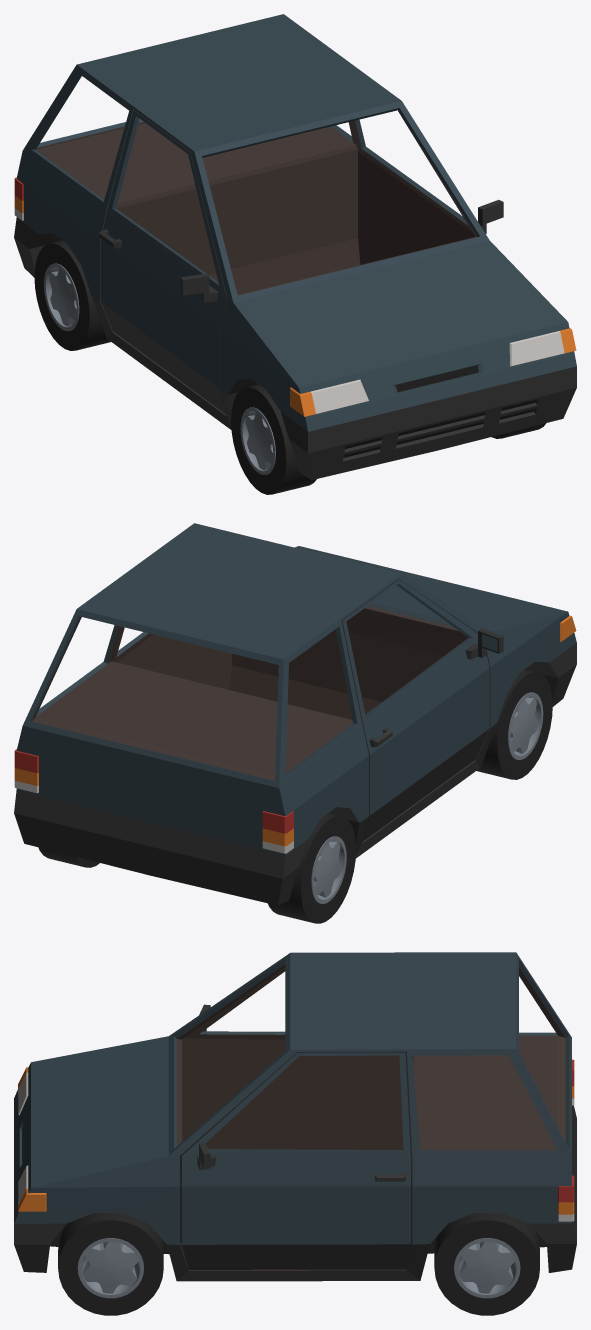
File: car0.glb
3 views of the same model, one above another, from view 1: azimuth 30°, elevation 25°; view 2: azimuth 150°, elevation 25°; view 3: azimuth 270°, elevation 25° (orthographic). The views are drawn at different scales.
Visible parts, largest first — view 1: car body, door r, door l, wheel fr, wheel br; view 2: car body, door r, wheel br, wheel fr, door l; view 3: car body, door l, door r, wheel bl, wheel fl.
Part boxes in pixels (x1=…): car body: x1=14, y1=14, x2=576, y2=480; door r: x1=99, y1=110, x2=227, y2=414; door l: x1=351, y1=111, x2=503, y2=264; wheel fr: x1=231, y1=384, x2=316, y2=494; wheel br: x1=34, y1=240, x2=110, y2=350; car body: x1=14, y1=523, x2=576, y2=905; door r: x1=341, y1=579, x2=503, y2=841; wheel br: x1=268, y1=813, x2=356, y2=923; wheel fr: x1=476, y1=669, x2=552, y2=779; door l: x1=111, y1=626, x2=231, y2=689; car body: x1=14, y1=952, x2=576, y2=1281; door l: x1=180, y1=1052, x2=412, y2=1269; door r: x1=182, y1=967, x2=403, y2=1149; wheel bl: x1=434, y1=1213, x2=539, y2=1315; wheel fl: x1=58, y1=1213, x2=163, y2=1315.
Bounding box in the file's own units: 2.18 × 1.71 × 3.46.
1 material, 1 textured.
